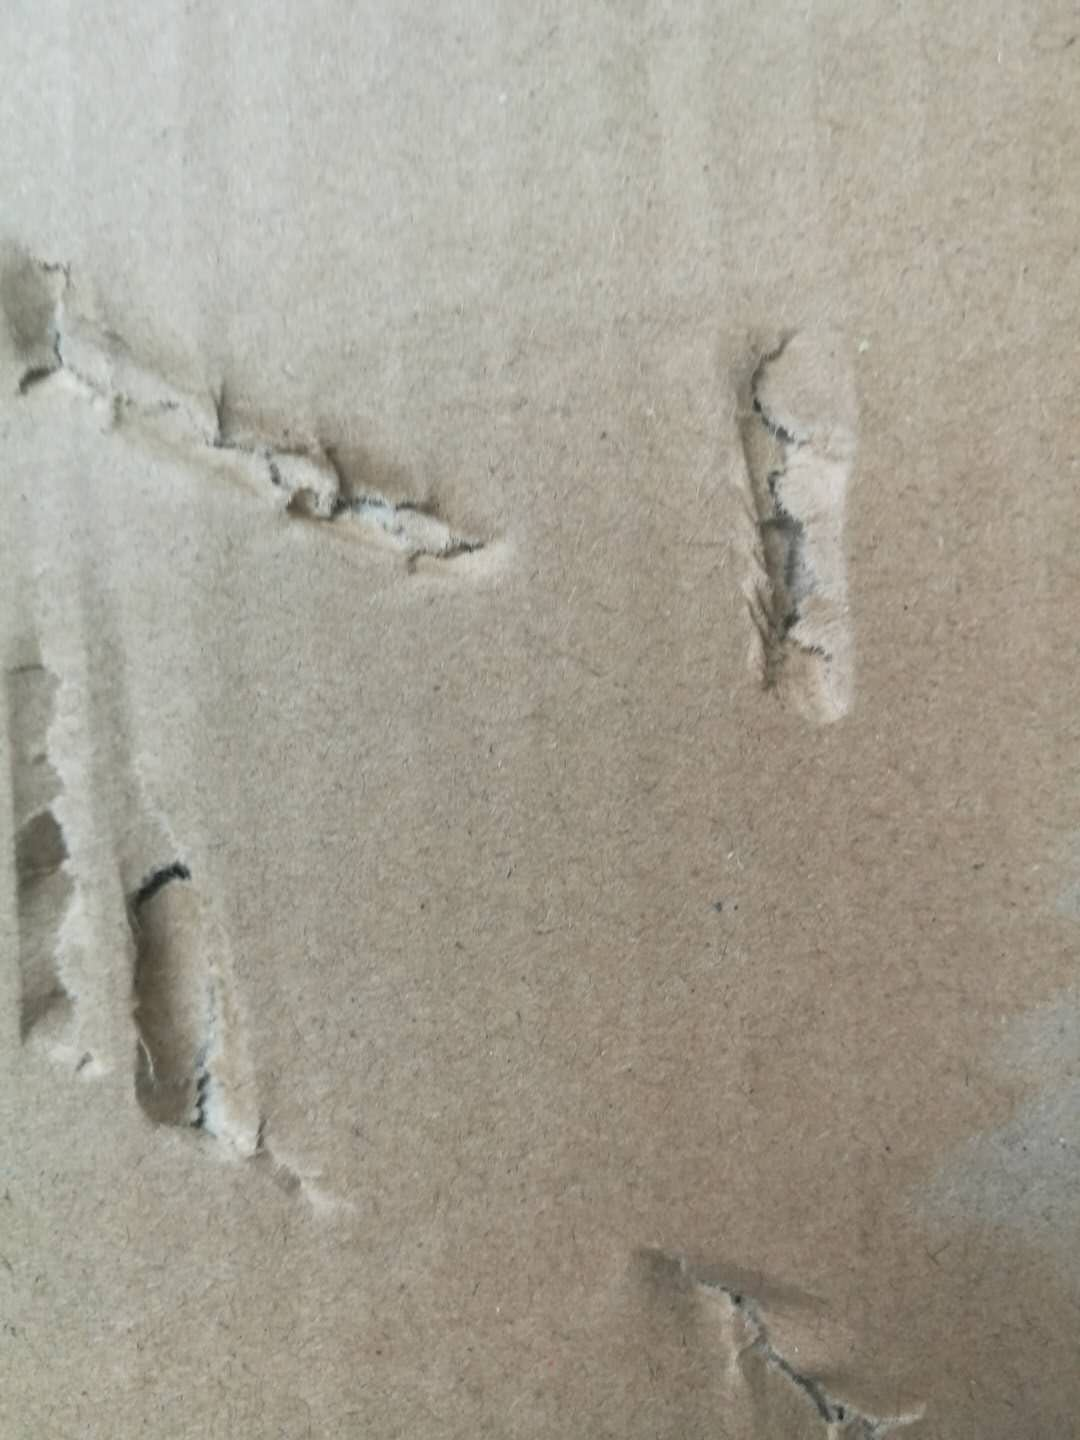defect: (1, 639, 389, 1250), (1, 200, 559, 622), (691, 288, 909, 756), (579, 1215, 1004, 1440), (908, 859, 1080, 1270)
